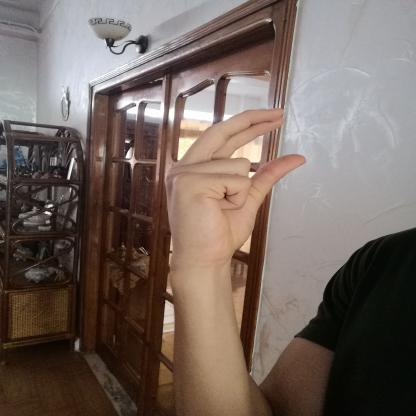DHELL: (154, 101, 314, 266)
